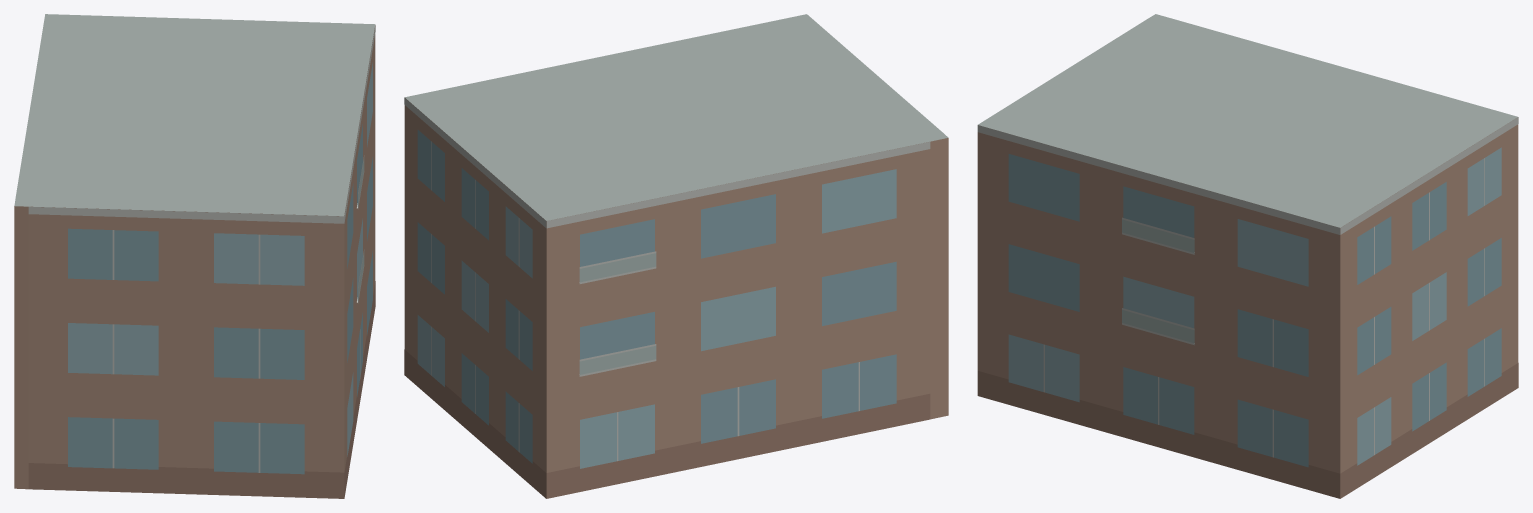
Rendered from survey-upis-32703960.glb.
The picture shows the model from 3 angles, left to right: view 1: azimuth 30°, elevation 25°; view 2: azimuth 150°, elevation 25°; view 3: azimuth 270°, elevation 25°; orthographic projection. The views are drawn at different scales.
Visible parts, largest first — view 1: survey-upis-32703960.tmp; view 2: survey-upis-32703960.tmp; view 3: survey-upis-32703960.tmp.
Part boxes in pixels (<box>): survey-upis-32703960.tmp: <box>14,14,375,498</box>; survey-upis-32703960.tmp: <box>404,14,948,498</box>; survey-upis-32703960.tmp: <box>977,14,1518,498</box>.
Size of the model in its own units: 15.5 by 9.15 by 16.56.
